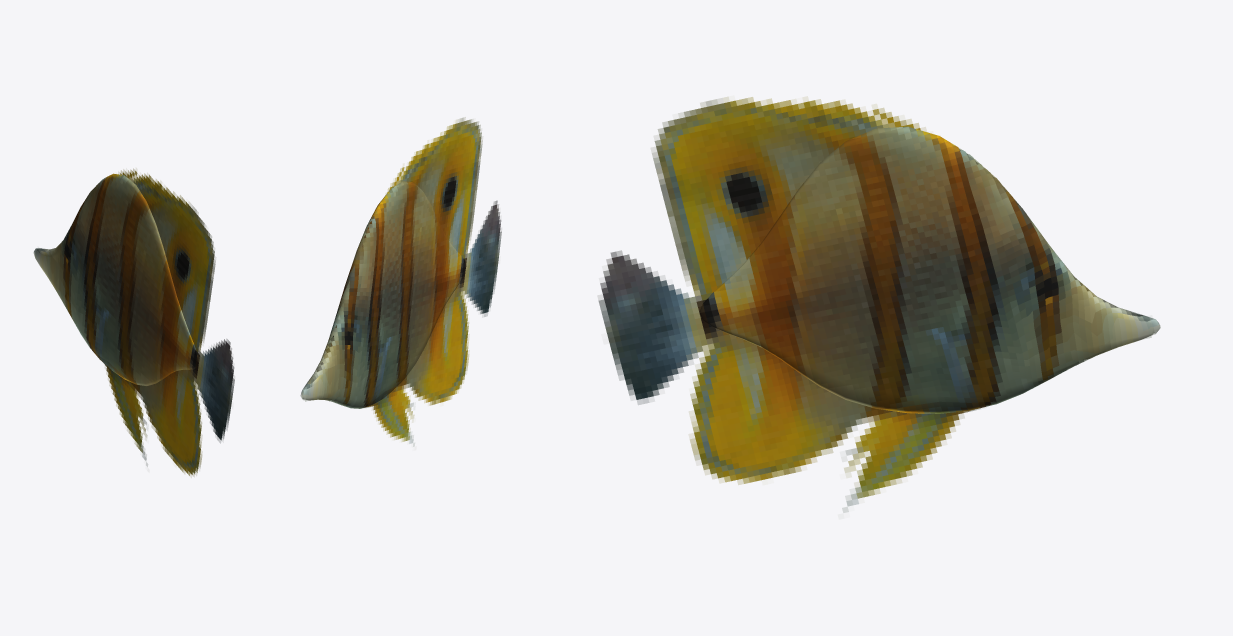
File: YellowFish.glb
3 views of the same model, side by side, from view 1: azimuth 30°, elevation 25°; view 2: azimuth 150°, elevation 25°; view 3: azimuth 270°, elevation 25° (orthographic). The views are drawn at different scales.
Visible parts, largest first — view 1: Cube, Plane; view 2: Cube, Plane; view 3: Cube, Plane.
Boxes of the visible parts, left/top/right/bottom form: Cube: left=33, top=173, right=198, bottom=385; Plane: left=40, top=168, right=234, bottom=476; Cube: left=300, top=181, right=466, bottom=408; Plane: left=305, top=117, right=501, bottom=446; Cube: left=699, top=126, right=1160, bottom=413; Plane: left=598, top=97, right=1151, bottom=512.
Bounding box in the file's own units: 0.1161 × 2.75 × 2.75.
Materials: 1 (1 with a texture image).
